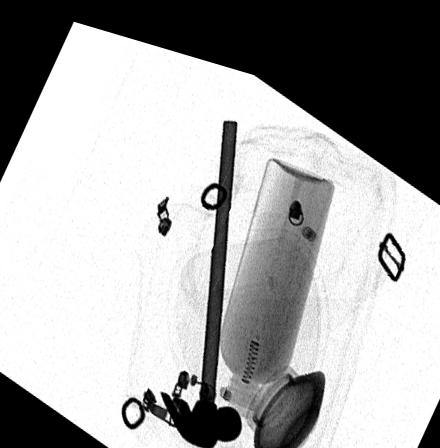Hammer: (157, 107, 242, 437)
